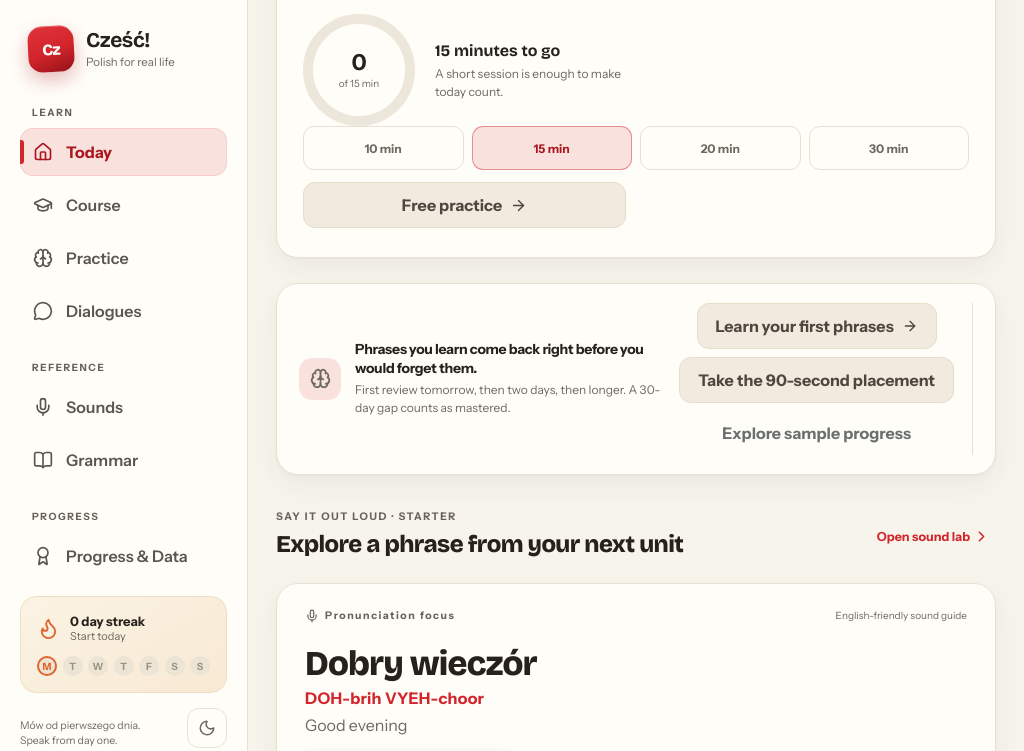
guided learning flow › explains the memory system until the first phrase is learned
This screenshot has width=1024, height=751.
(page scrolled)
expect the text "come back right before you would forget them" is shown: met, box [355,340,644,377]
What coordinates should you click on to do the following:
click the button "Learn your first phrases"
I would click on:
 (817, 326)
Its box is [696,303,937,349].
(page scrolled)
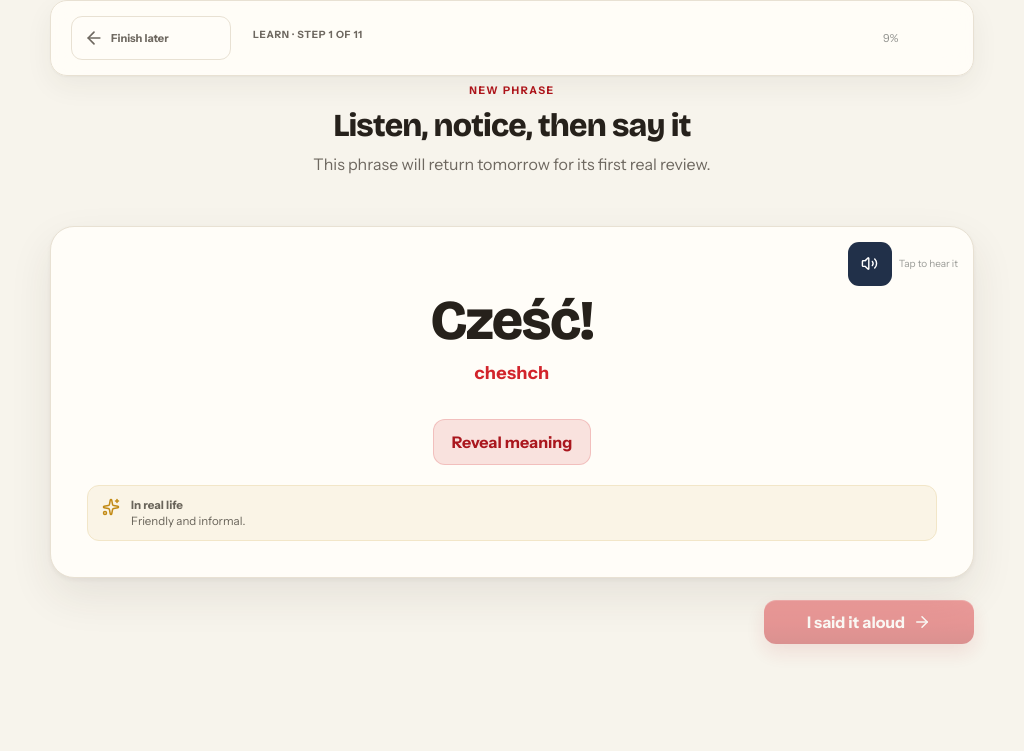
expect the text "Learn · Step 1 of 11" is shown: met, box [253,28,363,41]
